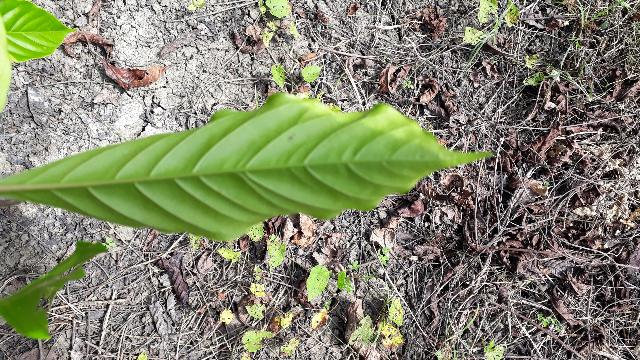healthy: (3, 94, 498, 240)
